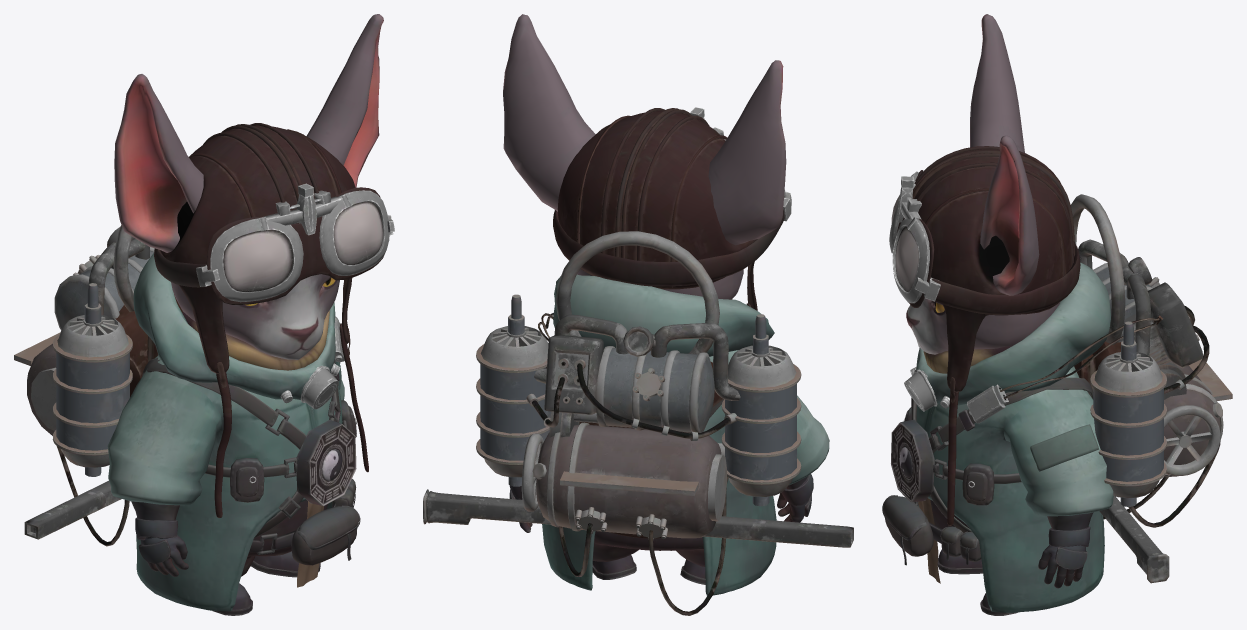
File: cat_with_jet_pack.optimized.glb
3 renders of one model, left to right at view 1: azimuth 30°, elevation 25°; view 2: azimuth 150°, elevation 25°; view 3: azimuth 270°, elevation 25°, orthographic. The views are drawn at different scales.
Parts seen in each view (by area): view 1: jacket_low, head_low, hat1_low, glasses_low, scarf1_low, airbag_engine5_low, octagon_low, belt_bag1_low, airbag_cylinder2_low, glasses_skin_low, weapon1_low, hat3_low (+27 smaller); view 2: head_low, hat1_low, airbag_cylinder1_low, airbag_engine5_low, jacket_low, scarf1_low, airbag_cylinder2_low, weapon1_low, glasses_belt_low, airbag_pipe4_low, airbag_controller_low, airbag_engine4_low (+23 smaller); view 3: jacket_low, hat1_low, head_low, scarf1_low, airbag_engine5_low, glasses_belt_low, glasses_low, airbag_controller_low, octagon_low, airbag_pipe4_low, airbag_valve_low, weapon1_low (+31 smaller).
Part boxes in pixels (x1,y1,x2,y2): jacket_low: (107, 355, 344, 611); head_low: (114, 14, 383, 359); hat1_low: (160, 123, 355, 373); glasses_low: (210, 190, 389, 302); scarf1_low: (133, 253, 335, 399); airbag_engine5_low: (56, 352, 129, 450); octagon_low: (296, 419, 356, 505); belt_bag1_low: (291, 506, 359, 565); airbag_cylinder2_low: (54, 247, 154, 330); glasses_skin_low: (206, 187, 384, 304); weapon1_low: (24, 480, 121, 539); hat3_low: (214, 323, 368, 517); head_low: (503, 14, 786, 299); hat1_low: (557, 108, 757, 310); airbag_cylinder1_low: (536, 424, 721, 538); airbag_engine5_low: (480, 364, 796, 480); jacket_low: (542, 350, 829, 595); scarf1_low: (553, 274, 774, 356); airbag_cylinder2_low: (596, 346, 714, 433); weapon1_low: (423, 489, 853, 547); glasses_belt_low: (553, 209, 784, 286); airbag_pipe4_low: (556, 231, 719, 354); airbag_controller_low: (544, 335, 603, 414); airbag_engine4_low: (480, 326, 796, 387); jacket_low: (916, 366, 1113, 612); hat1_low: (912, 146, 1075, 392); head_low: (906, 14, 1060, 354); scarf1_low: (916, 262, 1110, 405); airbag_engine5_low: (1093, 388, 1163, 481); glasses_belt_low: (931, 243, 1080, 314); glasses_low: (889, 171, 929, 303); airbag_controller_low: (1148, 282, 1202, 368); octagon_low: (891, 419, 934, 502); airbag_pipe4_low: (1070, 194, 1125, 344); airbag_valve_low: (1164, 405, 1220, 475); weapon1_low: (1099, 496, 1169, 583).
Size of the model in its own units: 0.2836 by 0.402 by 0.2469.
Materials: 3 (3 with a texture image).
